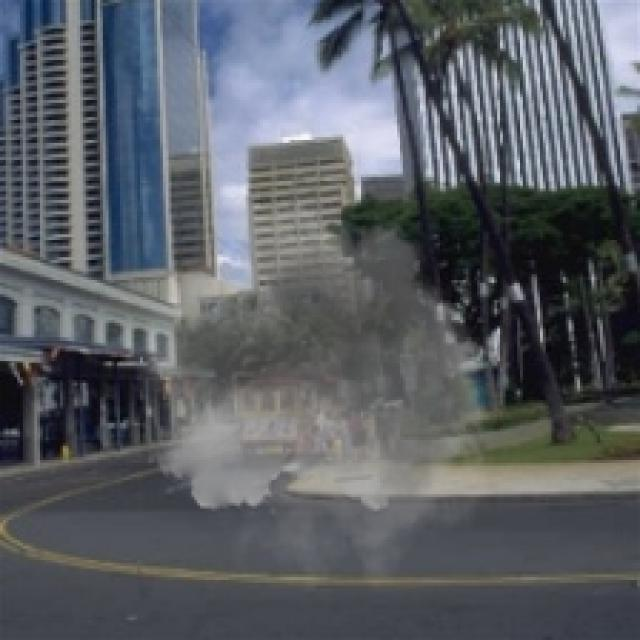smoke: (134, 180, 509, 594)
